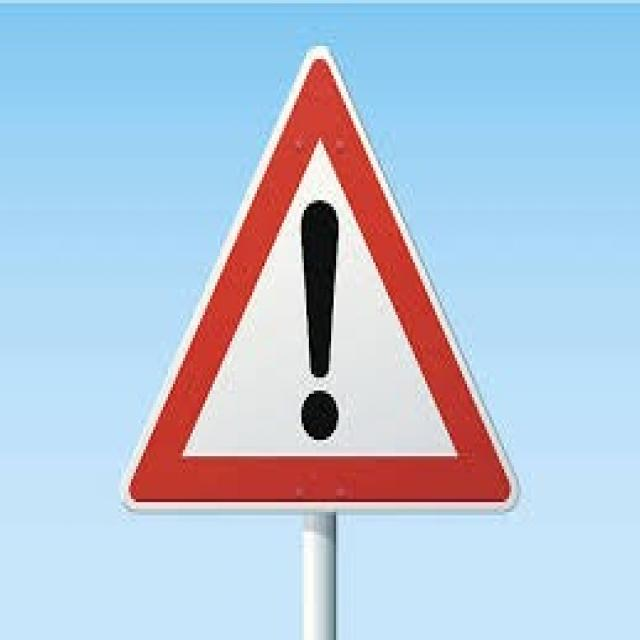warning: (120, 35, 525, 532)
